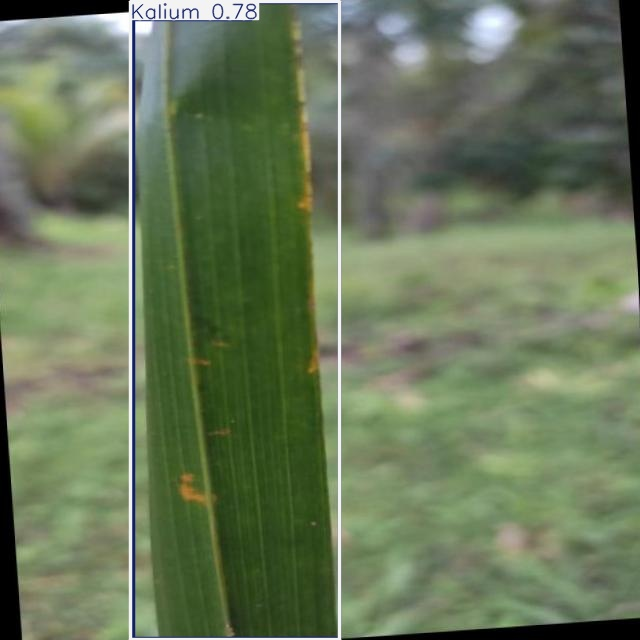Kalium: (131, 2, 339, 640)
nitrogen: (134, 2, 339, 639)
